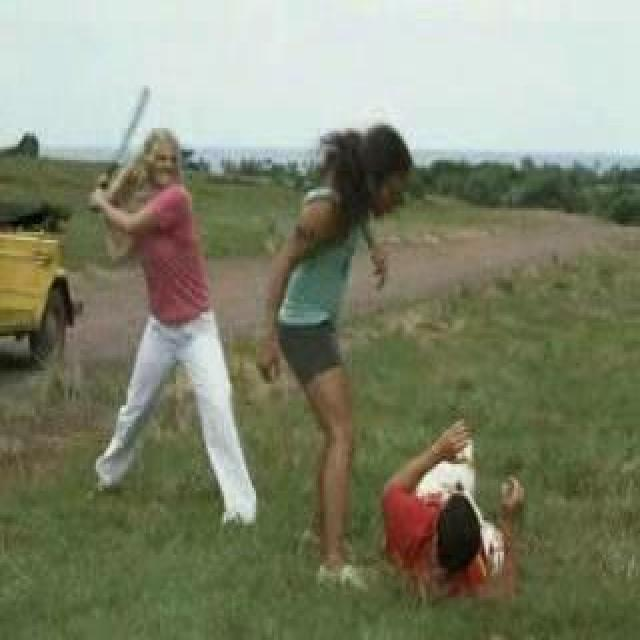fight: (73, 48, 599, 640)
